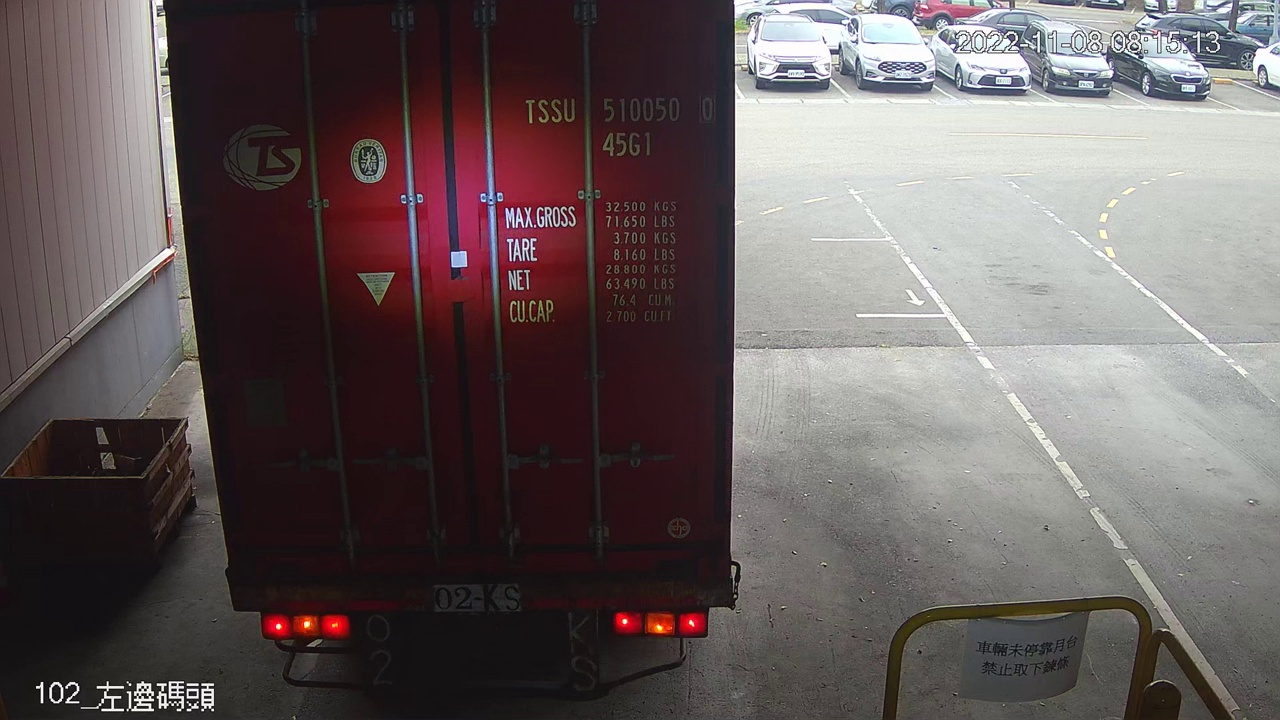container: (517, 84, 723, 166)
